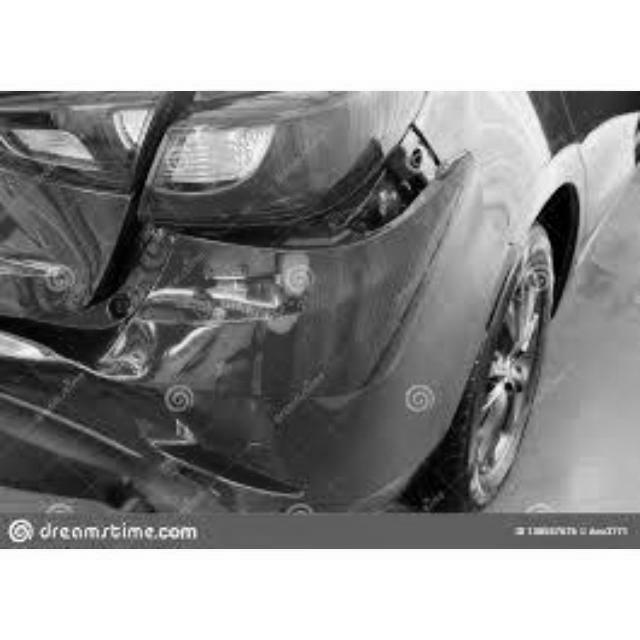rear-bumper-dent: (0, 163, 538, 505)
